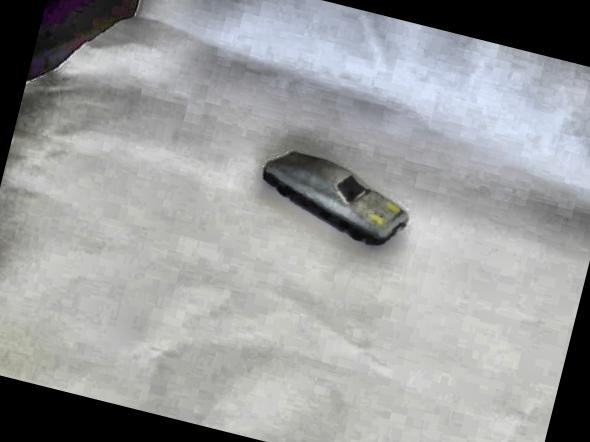normal_car: (248, 138, 419, 256)
